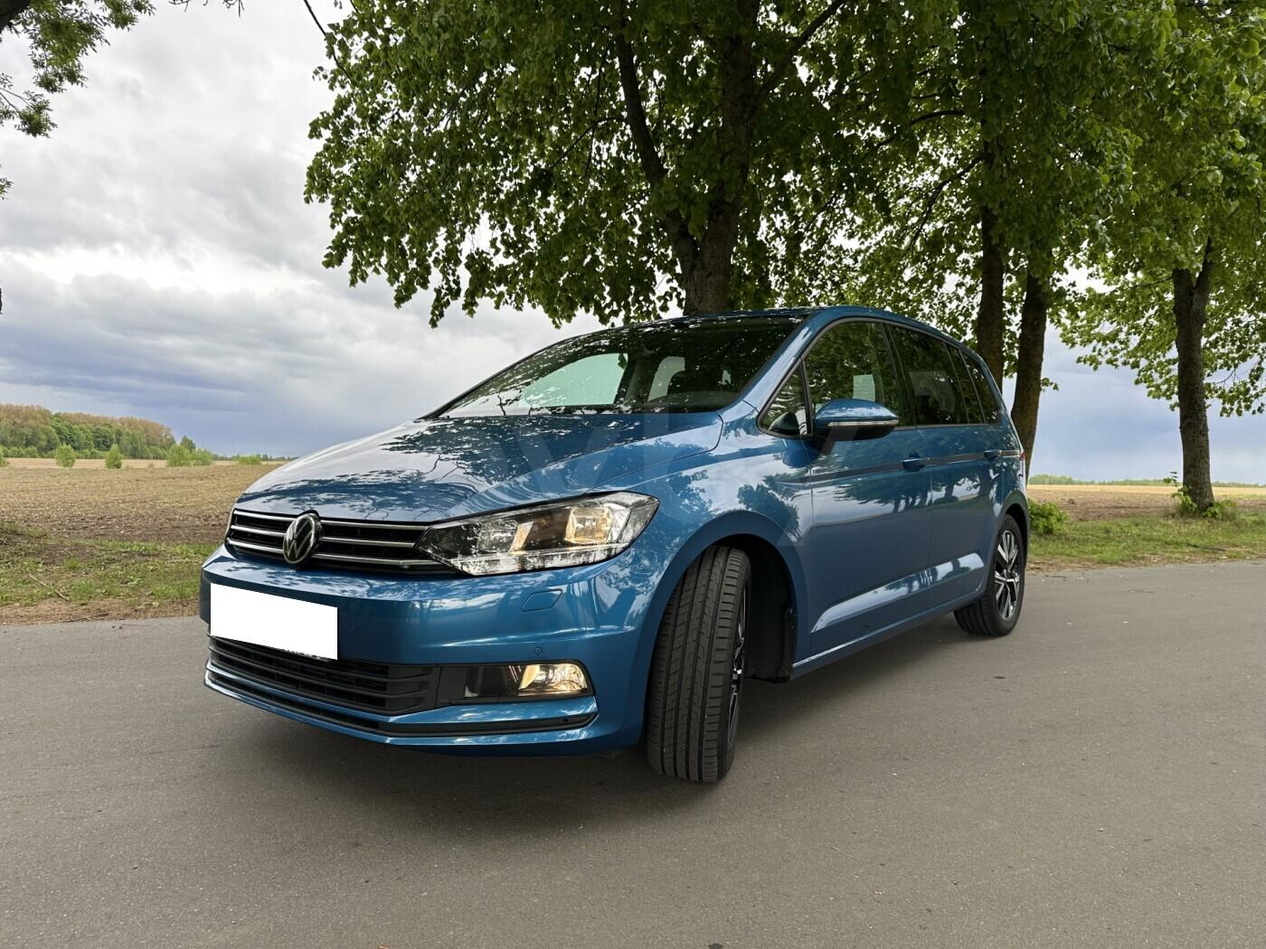Touran_2015: (199, 301, 1035, 788)
